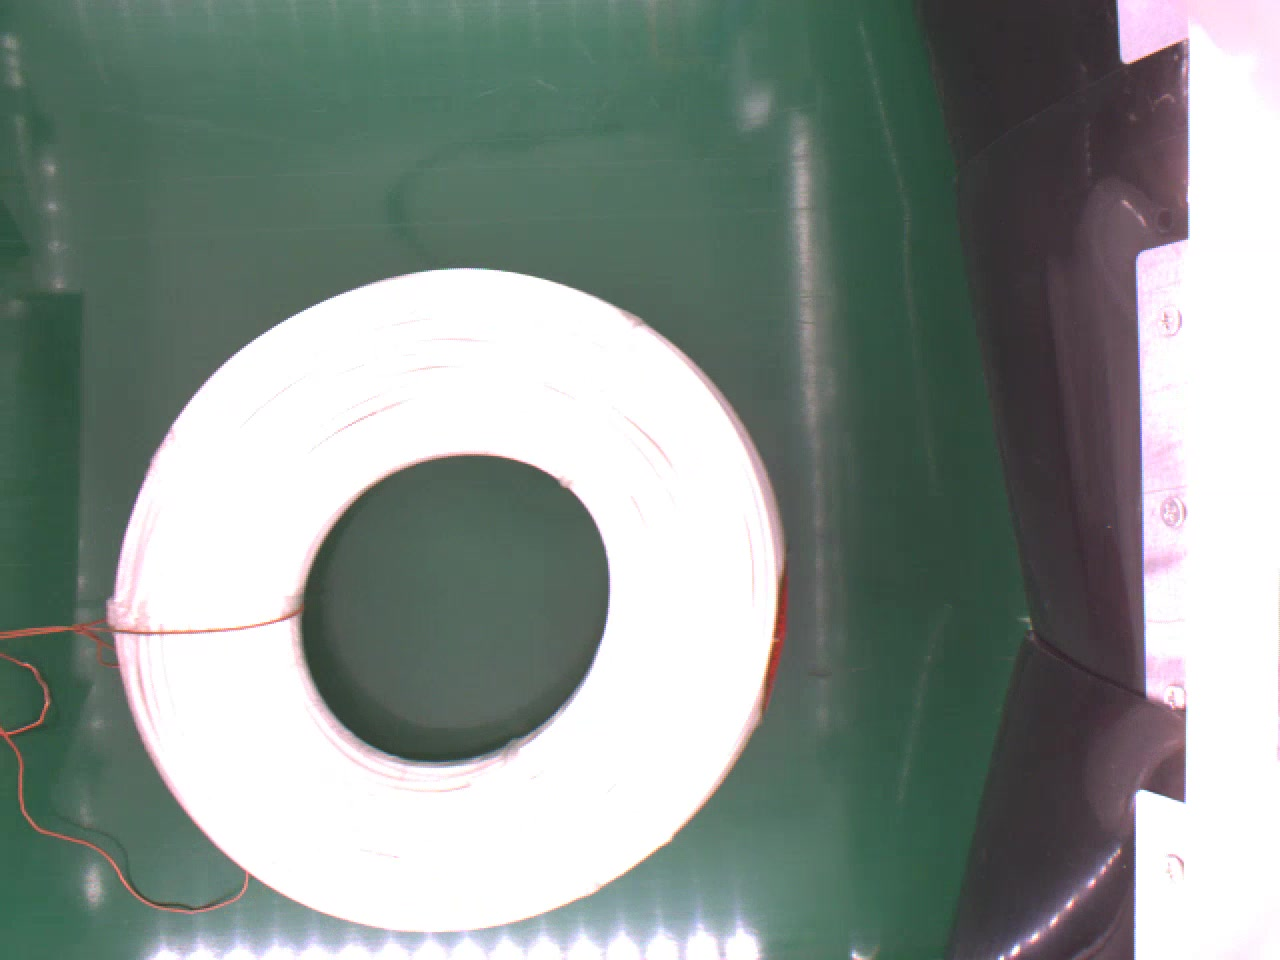white: (111, 262, 789, 934)
